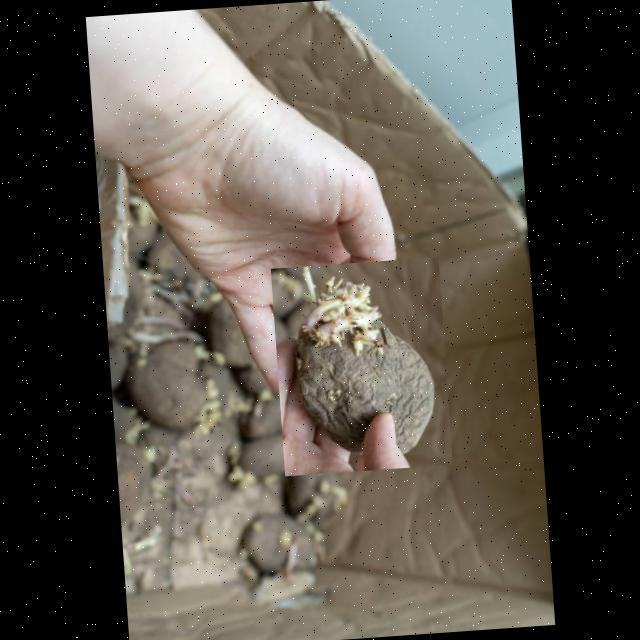Sprouted potato: (270, 256, 452, 474)
